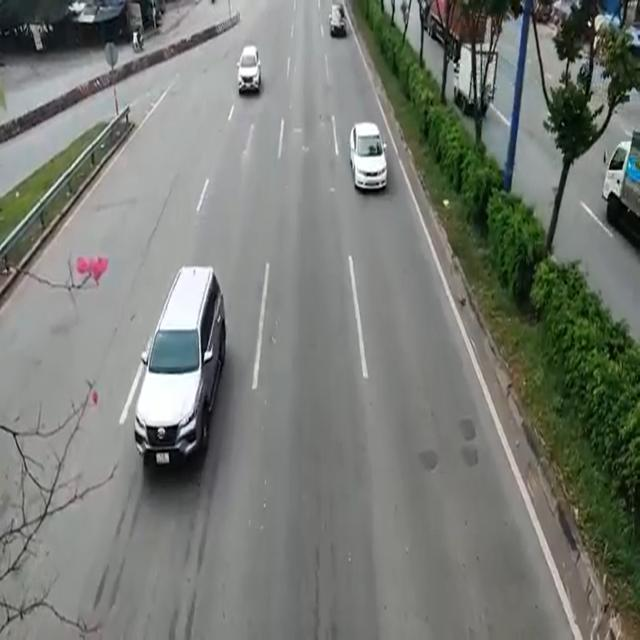car: (136, 264, 217, 470), (349, 123, 391, 197), (240, 44, 260, 100), (329, 5, 347, 38)
